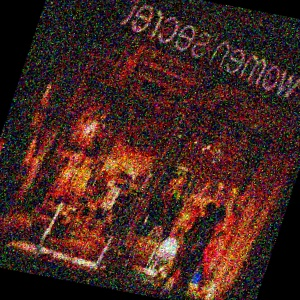women_secret: (278, 15, 300, 31)
